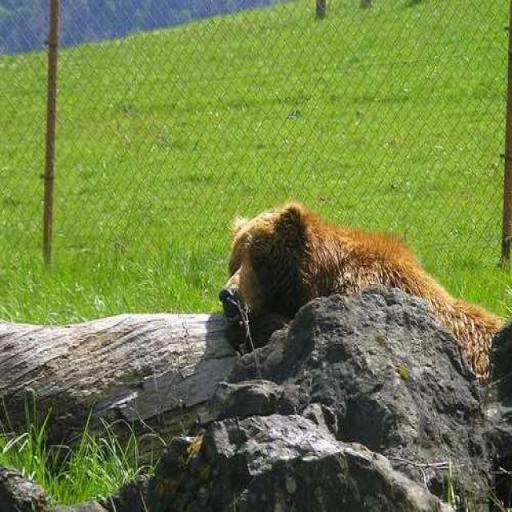Bear: (218, 201, 506, 385)
